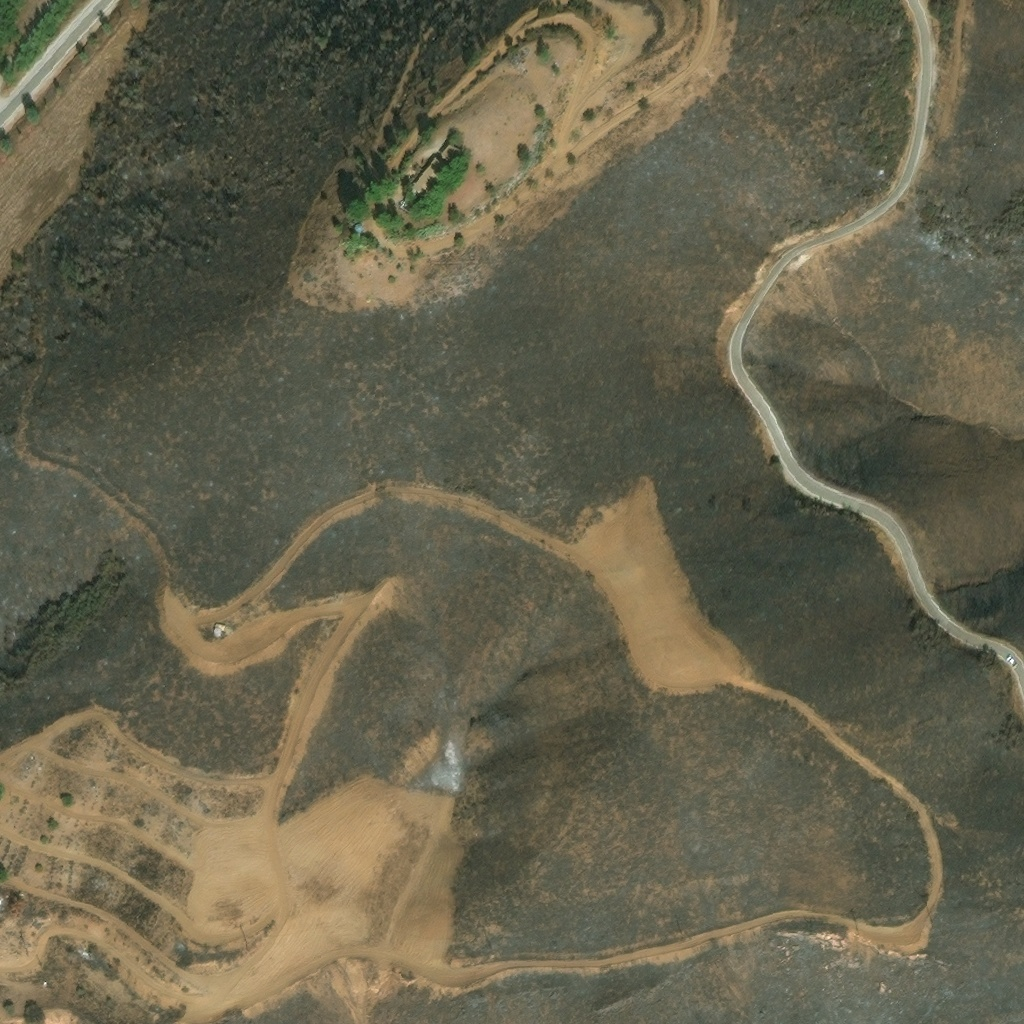0 no-damage: (408, 157, 451, 203), (441, 145, 460, 163)
3 destroyed: (81, 947, 91, 958)
